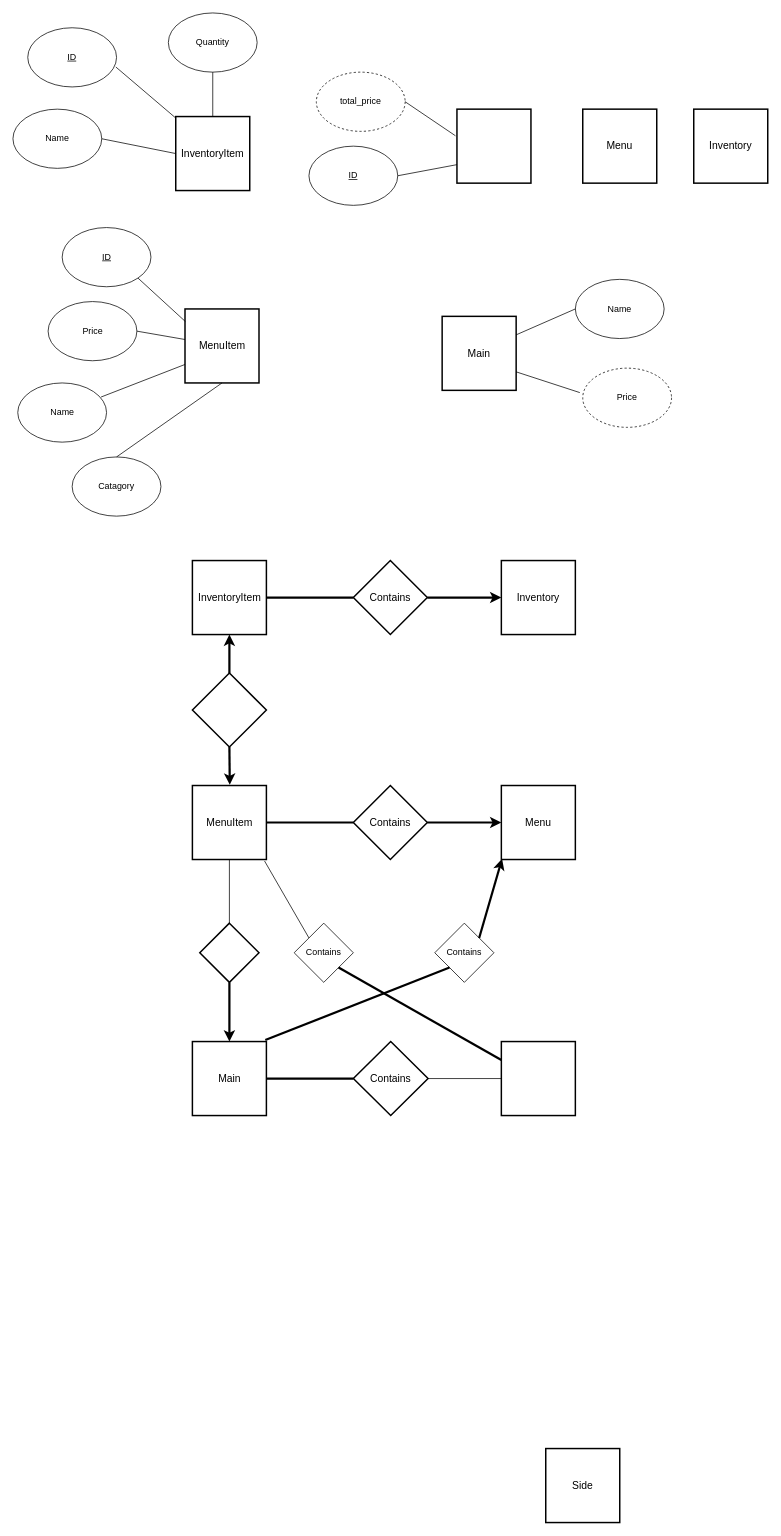
Some shapes in this 781 by 1536 pixel diagram are drawn without their labels. Here are the shapes that lost their labels. From the top down, the centre of each, then its label:
At pixel 493 146: "Orders".
At pixel 229 709: "Consists of".
At pixel 229 952: "Consist of".
At pixel 538 1078: "Order".
